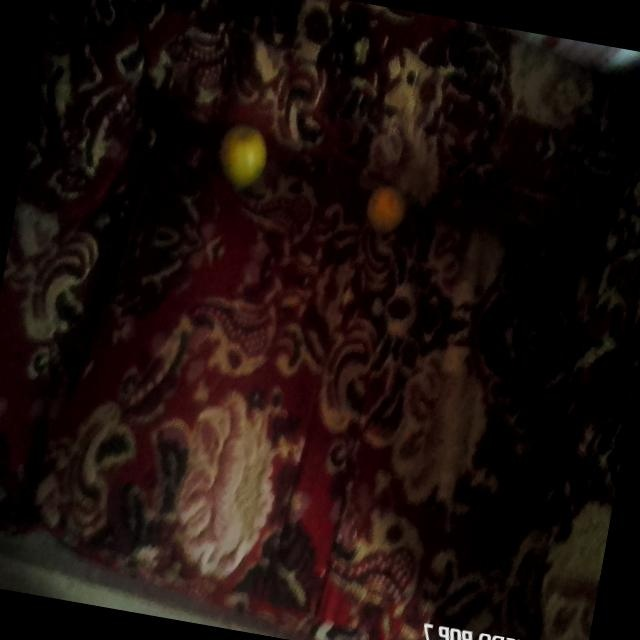agrume: (211, 120, 277, 197), (354, 177, 414, 255)
